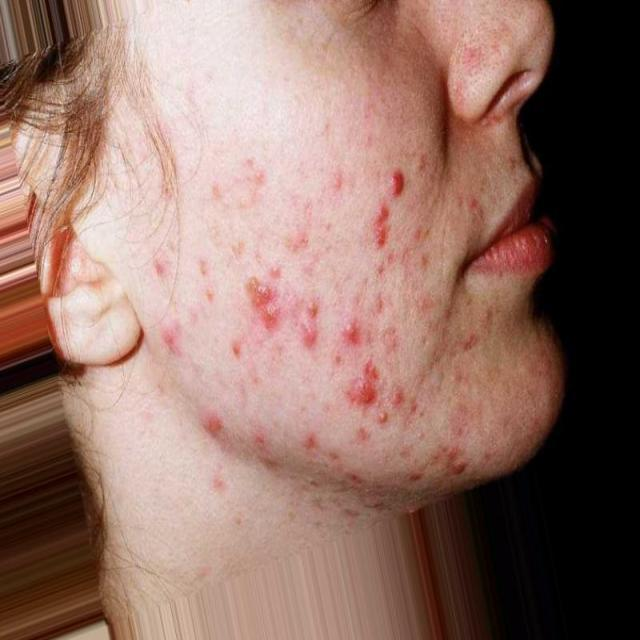acne: (356, 264, 418, 356), (233, 408, 301, 484), (193, 162, 277, 218), (394, 218, 452, 294), (322, 456, 378, 528), (424, 316, 505, 364), (228, 277, 289, 338), (206, 324, 260, 392), (382, 456, 444, 504), (152, 296, 193, 366), (273, 212, 326, 266), (378, 377, 423, 438), (178, 242, 222, 304), (312, 160, 361, 212), (364, 199, 402, 256), (337, 360, 383, 406), (435, 430, 478, 478), (298, 418, 340, 467), (370, 164, 420, 204), (192, 404, 232, 444), (300, 296, 330, 346), (334, 316, 368, 353), (142, 244, 180, 276), (463, 187, 487, 227)
